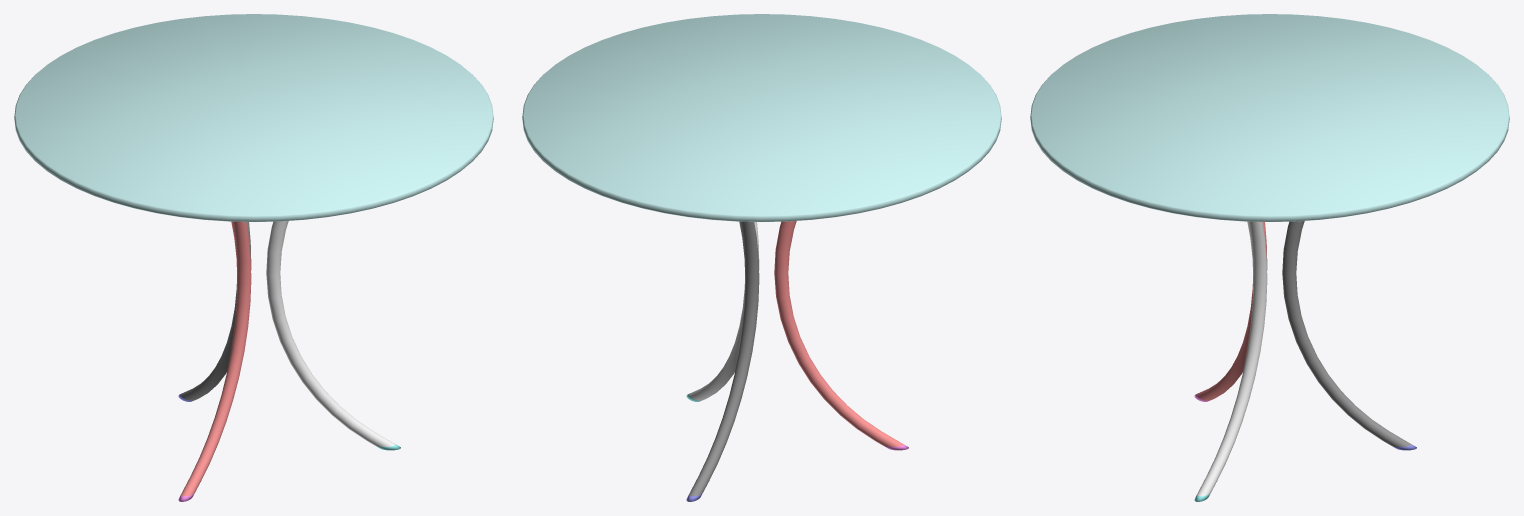
Rendered from TableRes.fbx.
3 renders of one model, left to right at view 1: azimuth 30°, elevation 25°; view 2: azimuth 150°, elevation 25°; view 3: azimuth 270°, elevation 25°, orthographic.
Parts seen in each view (by area): view 1: TableRes; view 2: TableRes; view 3: TableRes.
Part boxes in pixels (x1,y1,x2,y2): TableRes: (14,14,493,501); TableRes: (522,14,1001,501); TableRes: (1030,14,1509,501).
Size of the model in its own units: 152 by 117 by 152.
